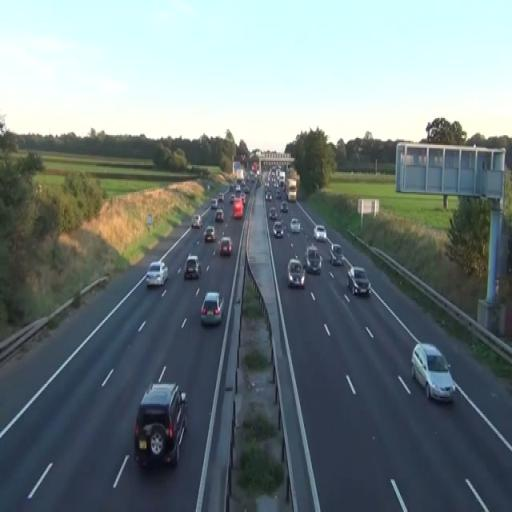Car: (134, 381, 188, 469), (410, 342, 456, 402), (200, 292, 224, 326), (347, 266, 371, 296), (146, 260, 168, 288), (287, 259, 306, 289), (305, 244, 322, 274), (184, 256, 200, 280), (328, 242, 343, 266), (219, 237, 232, 257), (313, 224, 327, 242), (203, 226, 216, 242), (274, 220, 284, 239), (290, 218, 301, 233)
Truck: (134, 380, 188, 470)
